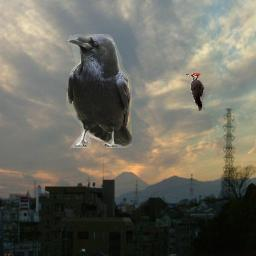Crow: (66, 34, 132, 148)
Woodpecker: (185, 73, 205, 111)
